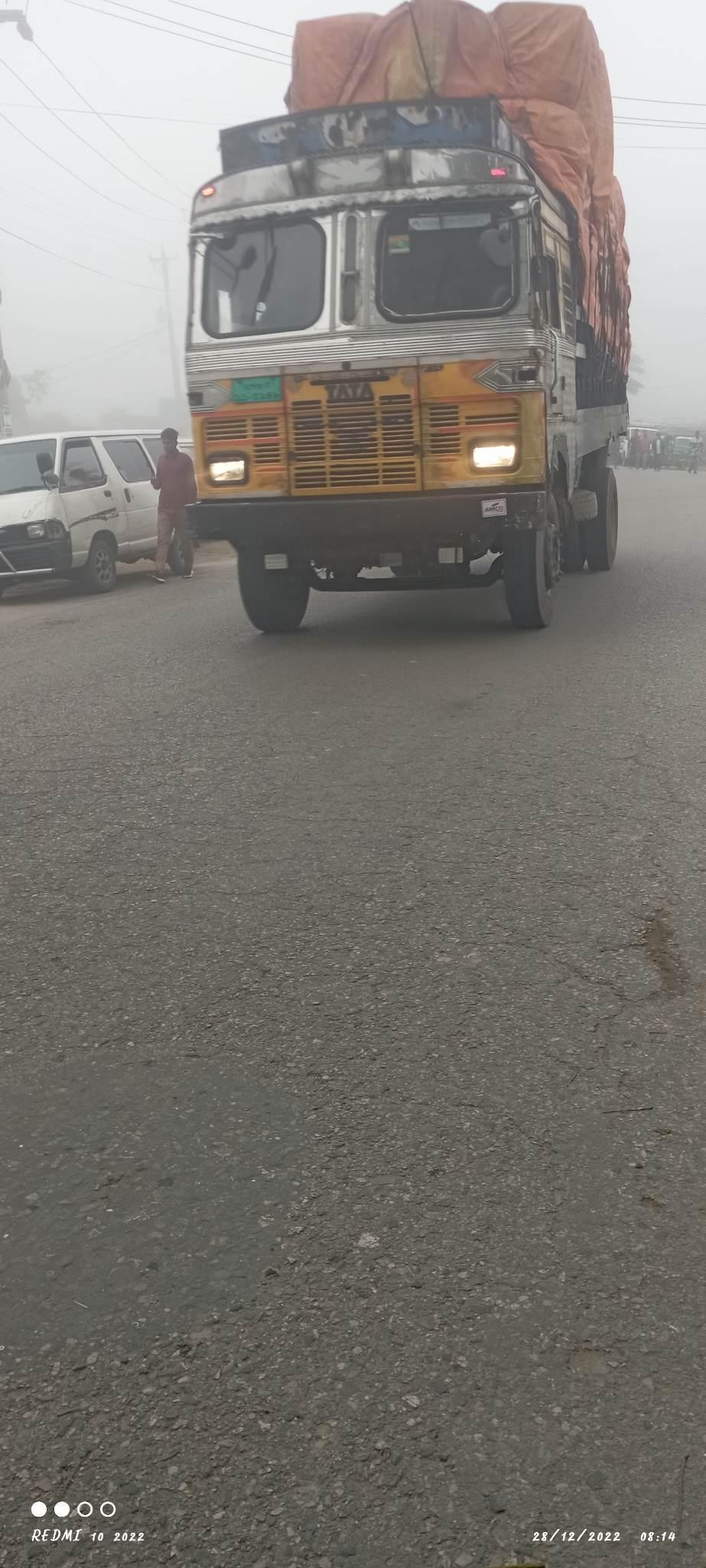Car: (2, 401, 192, 593)
Truck: (122, 11, 657, 666)
